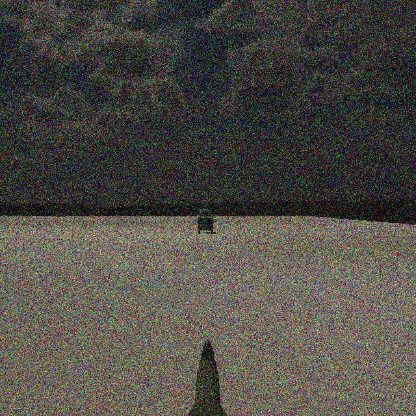green_car: (197, 208, 217, 234)
